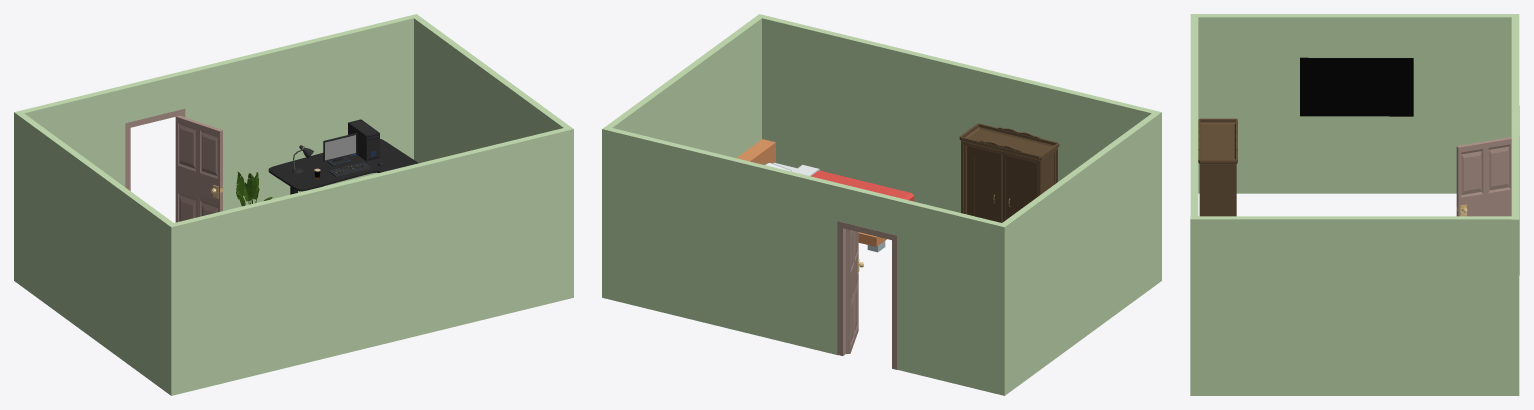
The model's file is environment.glb.
The picture shows the model from 3 angles, left to right: view 1: azimuth 30°, elevation 25°; view 2: azimuth 150°, elevation 25°; view 3: azimuth 270°, elevation 25°; orthographic projection. The views are drawn at different scales.
Parts seen in each view (by area): view 1: walls_static.003, walls_static.004, walls_static.002, walls_static.001, walls_static.005, group1559002970, desk_static.001, walls_static.006, computer.005, computer.001, door_visual, plant_static.001; view 2: walls_static.002, walls_static.003, walls_static.004, walls_static.005, walls_static.001, closet_static.002, closet_static.003, walls_static.006, door_visual, closet_static.001, group1559002970, bed_static.003 (+1 smaller); view 3: walls_static.001, walls_static.004, tv_visual.001, group1559002970, closet_static.002, walls_static.002, walls_static.003, walls_static.005.
Boxes of the visible parts, bbox=[...] form: walls_static.003: bbox=[167, 128, 567, 395]; walls_static.004: bbox=[14, 111, 173, 392]; walls_static.002: bbox=[181, 14, 419, 210]; walls_static.001: bbox=[414, 16, 573, 298]; walls_static.005: bbox=[20, 86, 125, 186]; group1559002970: bbox=[176, 115, 223, 222]; desk_static.001: bbox=[268, 139, 418, 191]; walls_static.006: bbox=[122, 71, 184, 122]; computer.005: bbox=[348, 119, 379, 161]; computer.001: bbox=[323, 133, 357, 166]; door_visual: bbox=[125, 109, 185, 222]; plant_static.001: bbox=[236, 172, 272, 206]; walls_static.002: bbox=[602, 126, 840, 355]; walls_static.003: bbox=[762, 15, 1161, 282]; walls_static.004: bbox=[998, 113, 1158, 395]; walls_static.005: bbox=[897, 198, 1001, 394]; walls_static.001: bbox=[606, 14, 765, 157]; closet_static.002: bbox=[959, 123, 1059, 214]; closet_static.003: bbox=[967, 145, 1002, 222]; walls_static.006: bbox=[837, 184, 900, 235]; door_visual: bbox=[837, 221, 896, 369]; closet_static.001: bbox=[1002, 154, 1036, 221]; group1559002970: bbox=[846, 229, 863, 353]; bed_static.003: bbox=[736, 139, 886, 252]; walls_static.001: bbox=[1190, 216, 1511, 395]; walls_static.004: bbox=[1198, 14, 1519, 193]; tv_visual.001: bbox=[1300, 57, 1413, 116]; group1559002970: bbox=[1456, 137, 1511, 216]; closet_static.002: bbox=[1198, 118, 1237, 216]; walls_static.002: bbox=[1511, 99, 1519, 395]; walls_static.003: bbox=[1190, 14, 1198, 216]; walls_static.005: bbox=[1511, 17, 1519, 68].
Size of what is drawn, in the model's own units: 6.65 by 2.67 by 4.5.
Materials: 32 (2 with a texture image).
